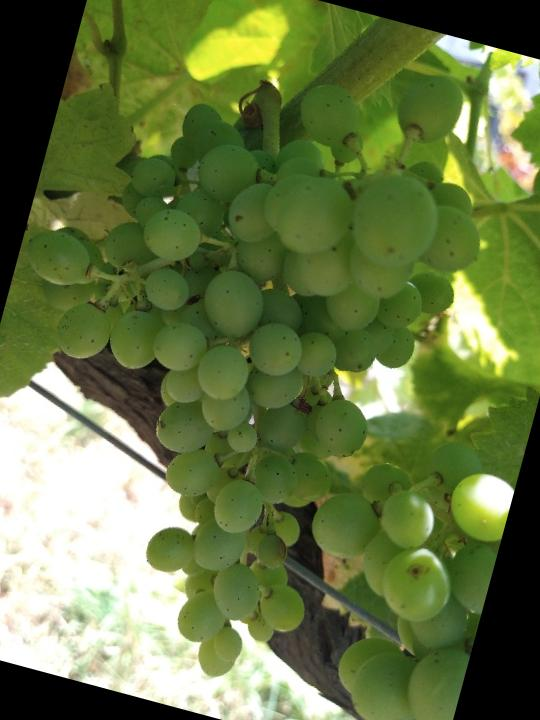grape: (0, 0, 522, 719)
